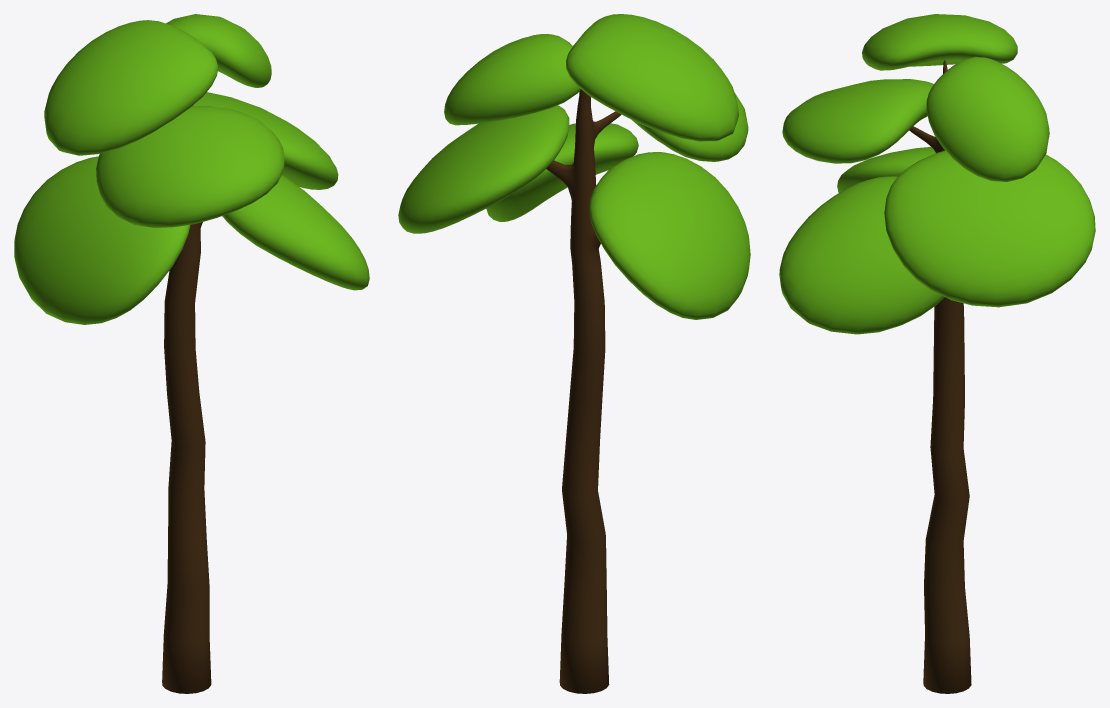
The model's file is Tree_2.FBX.
3 views of the same model, side by side, from view 1: azimuth 30°, elevation 25°; view 2: azimuth 150°, elevation 25°; view 3: azimuth 270°, elevation 25° (orthographic). The views are drawn at different scales.
Parts seen in each view (by area): view 1: A2_Hojas3, A2, A2_Hojas2, A2_Hojas7, A2_Hojas5, A2_Hojas6, A2_Hojas4; view 2: A2, A2_Hojas3, A2_Hojas7, A2_Hojas4, A2_Hojas6, A2_Hojas5, A2_Hojas2; view 3: A2_Hojas4, A2_Hojas5, A2, A2_Hojas6, A2_Hojas2, A2_Hojas7, A2_Hojas3.
Boxes of the visible parts, <box> form: A2_Hojas3: <box>14,156,190,324</box>; A2: <box>162,105,211,693</box>; A2_Hojas2: <box>96,106,284,227</box>; A2_Hojas7: <box>44,20,218,155</box>; A2_Hojas5: <box>222,175,369,290</box>; A2_Hojas6: <box>166,14,271,87</box>; A2_Hojas4: <box>193,92,338,189</box>; A2: <box>546,89,621,693</box>; A2_Hojas3: <box>589,152,750,319</box>; A2_Hojas7: <box>566,14,739,141</box>; A2_Hojas4: <box>398,105,569,233</box>; A2_Hojas6: <box>444,34,580,125</box>; A2_Hojas5: <box>486,123,638,221</box>; A2_Hojas2: <box>631,92,748,161</box>; A2_Hojas4: <box>884,150,1095,307</box>; A2_Hojas5: <box>779,176,944,334</box>; A2: <box>909,60,971,693</box>; A2_Hojas6: <box>926,56,1049,181</box>; A2_Hojas2: <box>782,79,933,163</box>; A2_Hojas7: <box>862,14,1017,70</box>; A2_Hojas3: <box>837,147,935,192</box>.
Bounding box in the file's own units: 434 × 928 × 412.
